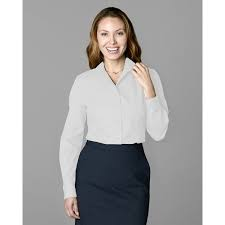F_shirt: (54, 53, 173, 152)
F_tailored skirt: (66, 140, 151, 225)
